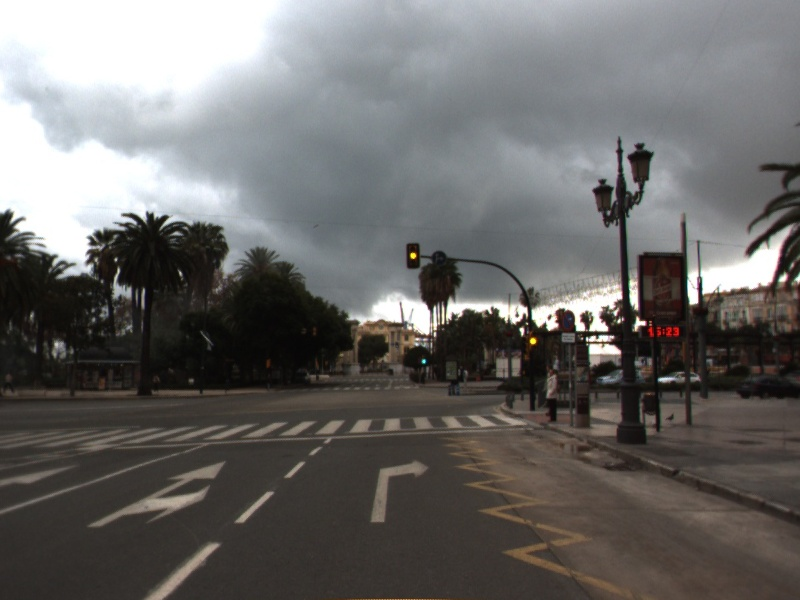RIGHT: (367, 455, 432, 525)
STRAIGHT: (2, 460, 86, 495)
STRAIGHT_RIGHT: (84, 458, 229, 530)
